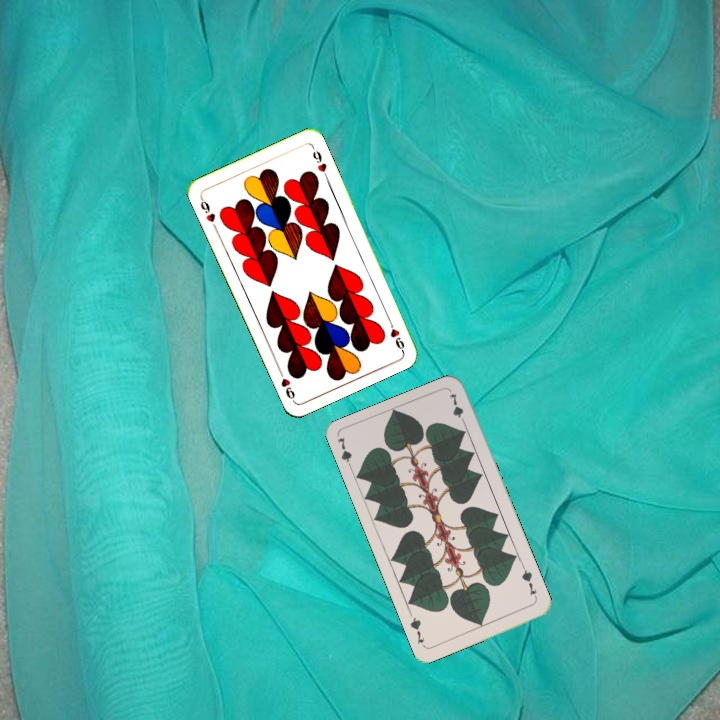G7: (333, 433, 355, 474), (517, 563, 539, 598)
H9: (384, 314, 407, 353), (196, 193, 219, 231)
